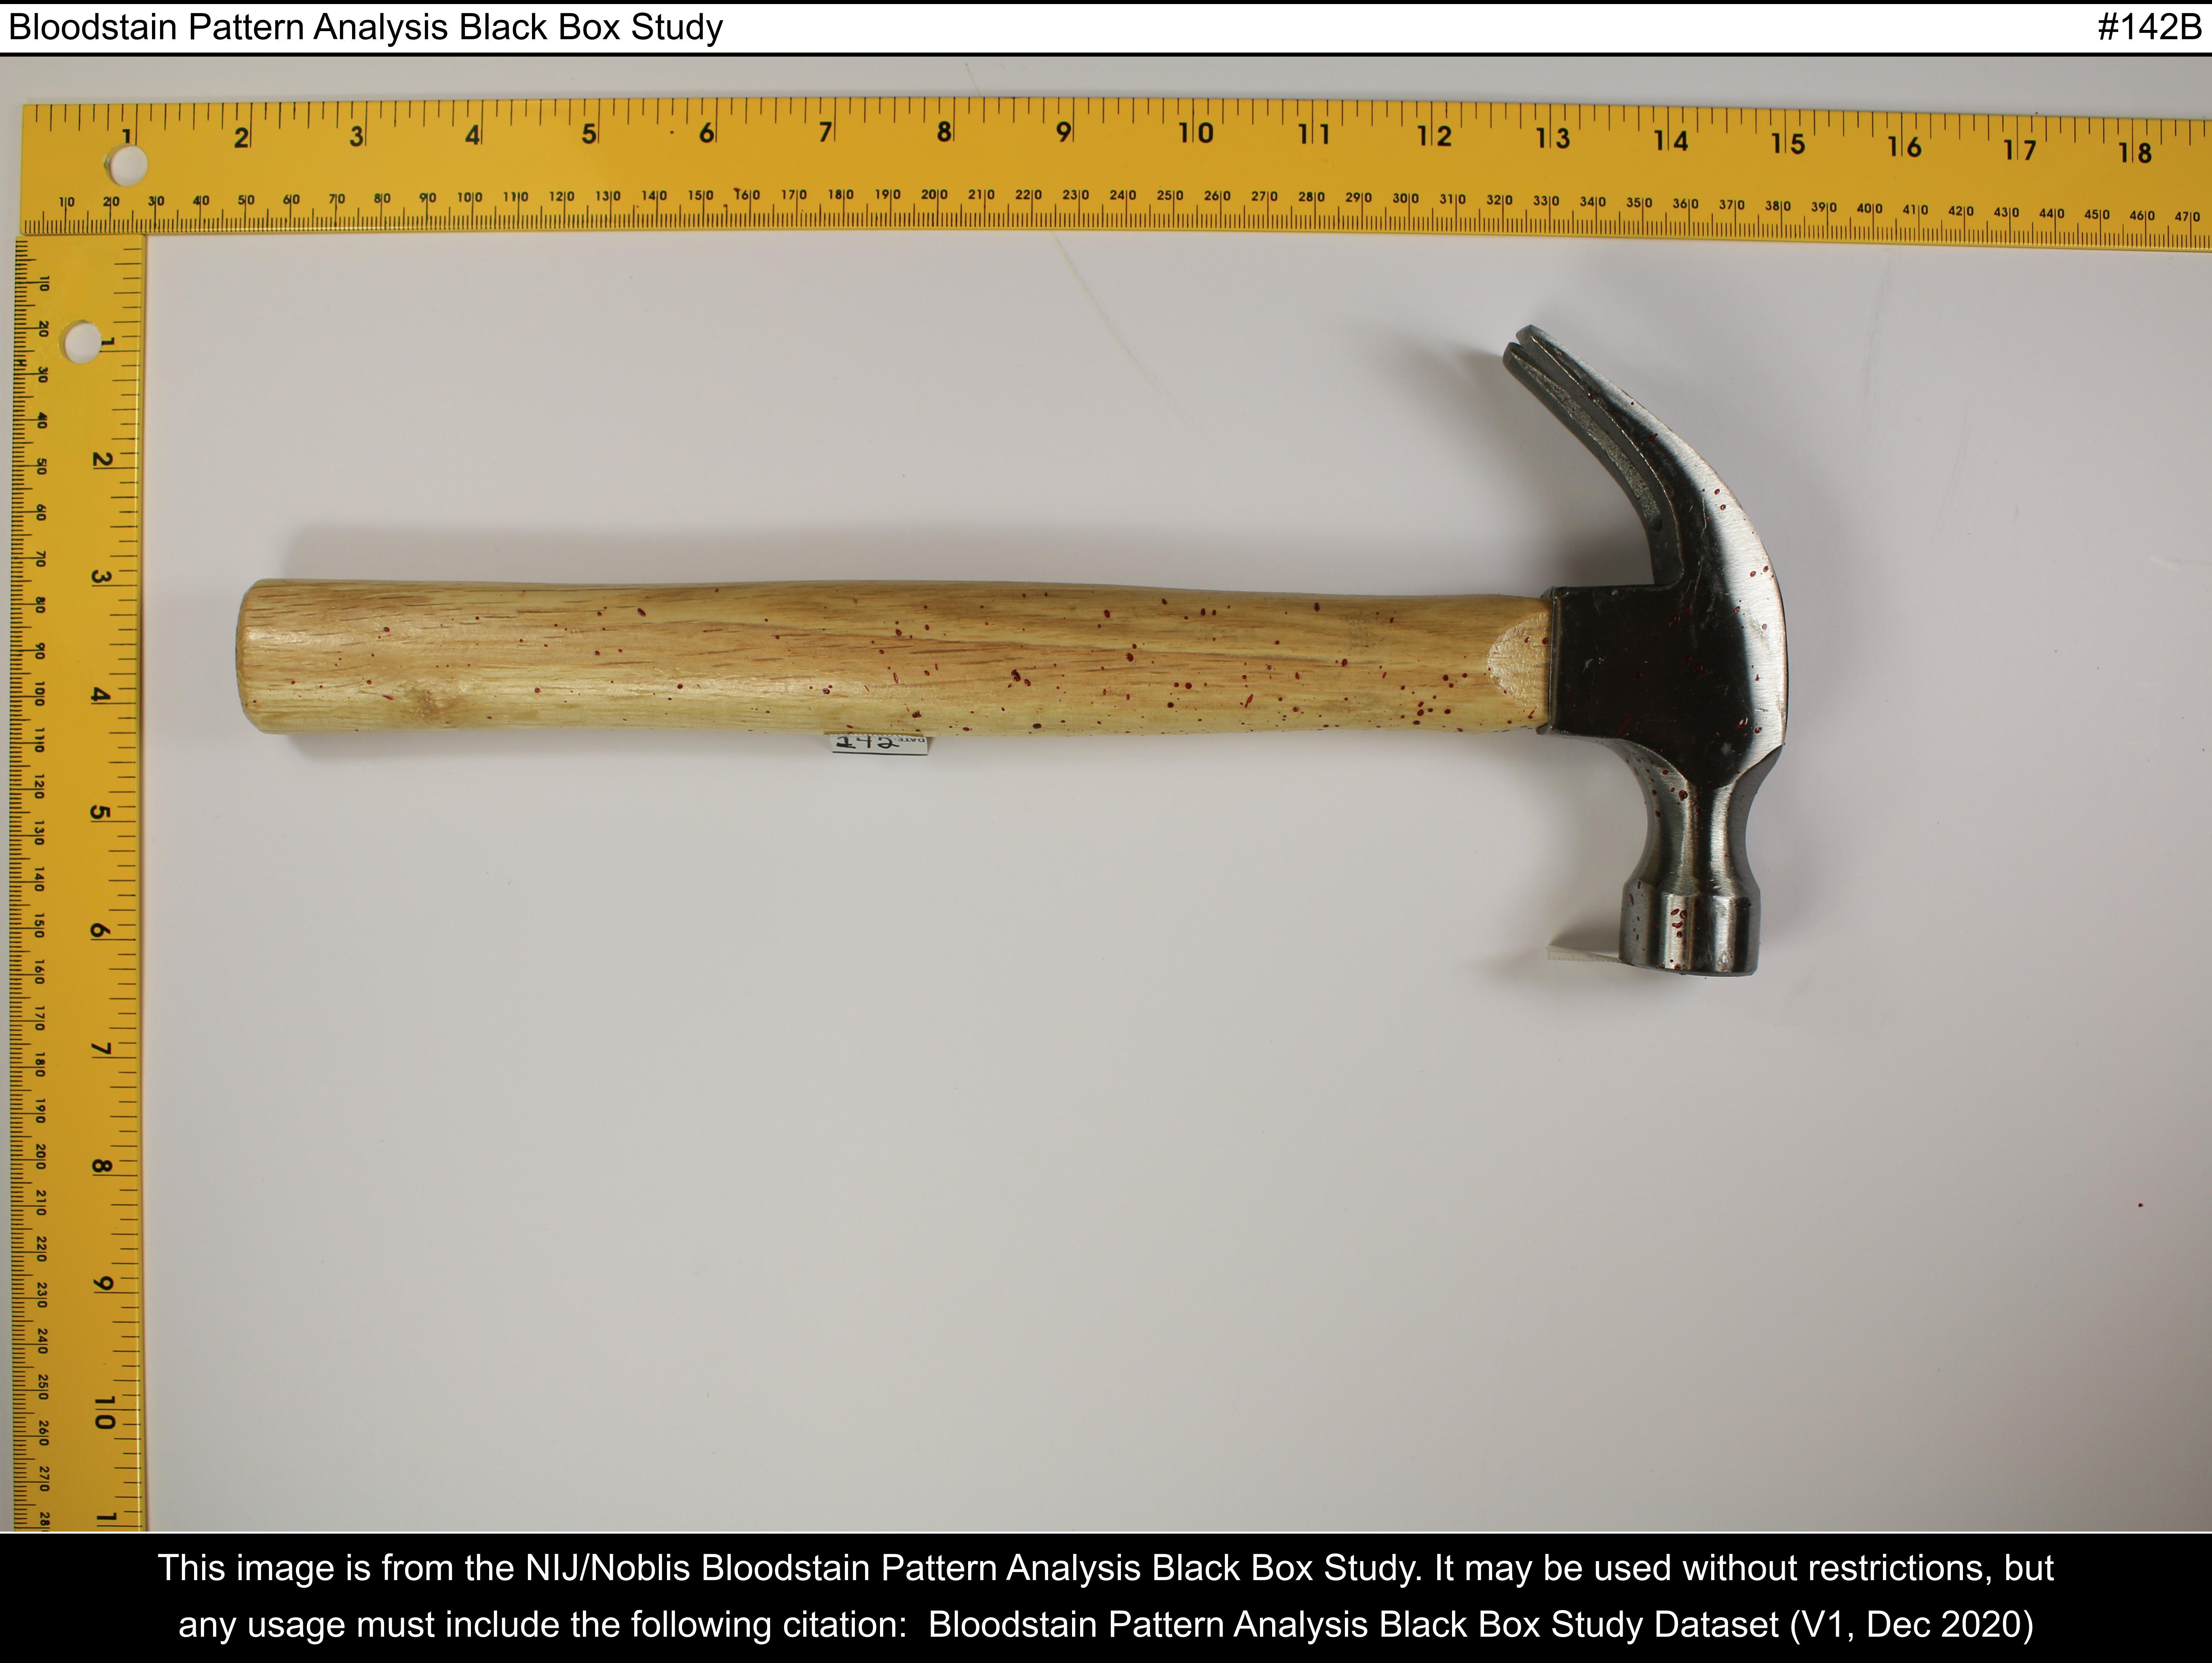Impact: (241, 578, 1568, 746)
